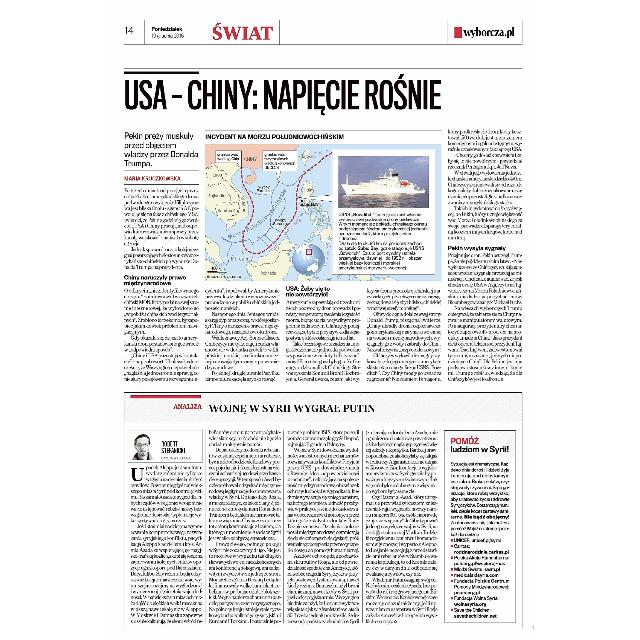article: (122, 69, 526, 385), (122, 389, 524, 631)
